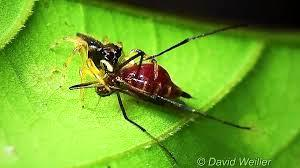Helopeltis-insect: (73, 30, 190, 103)
